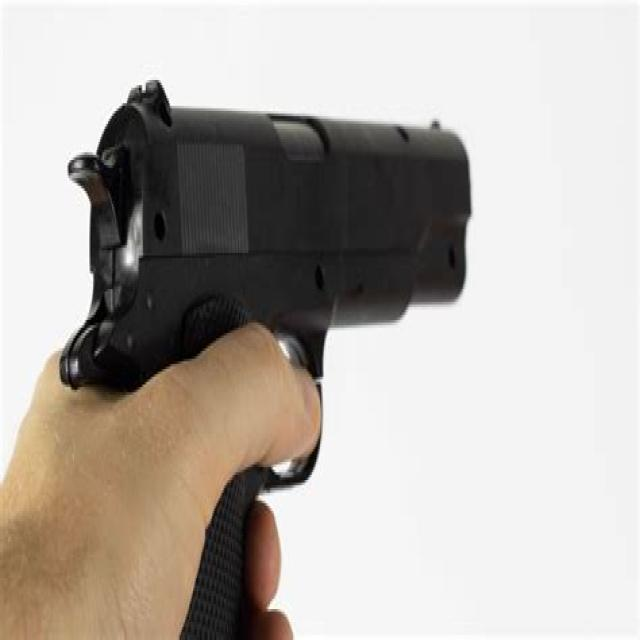weapons: (70, 41, 474, 640)
